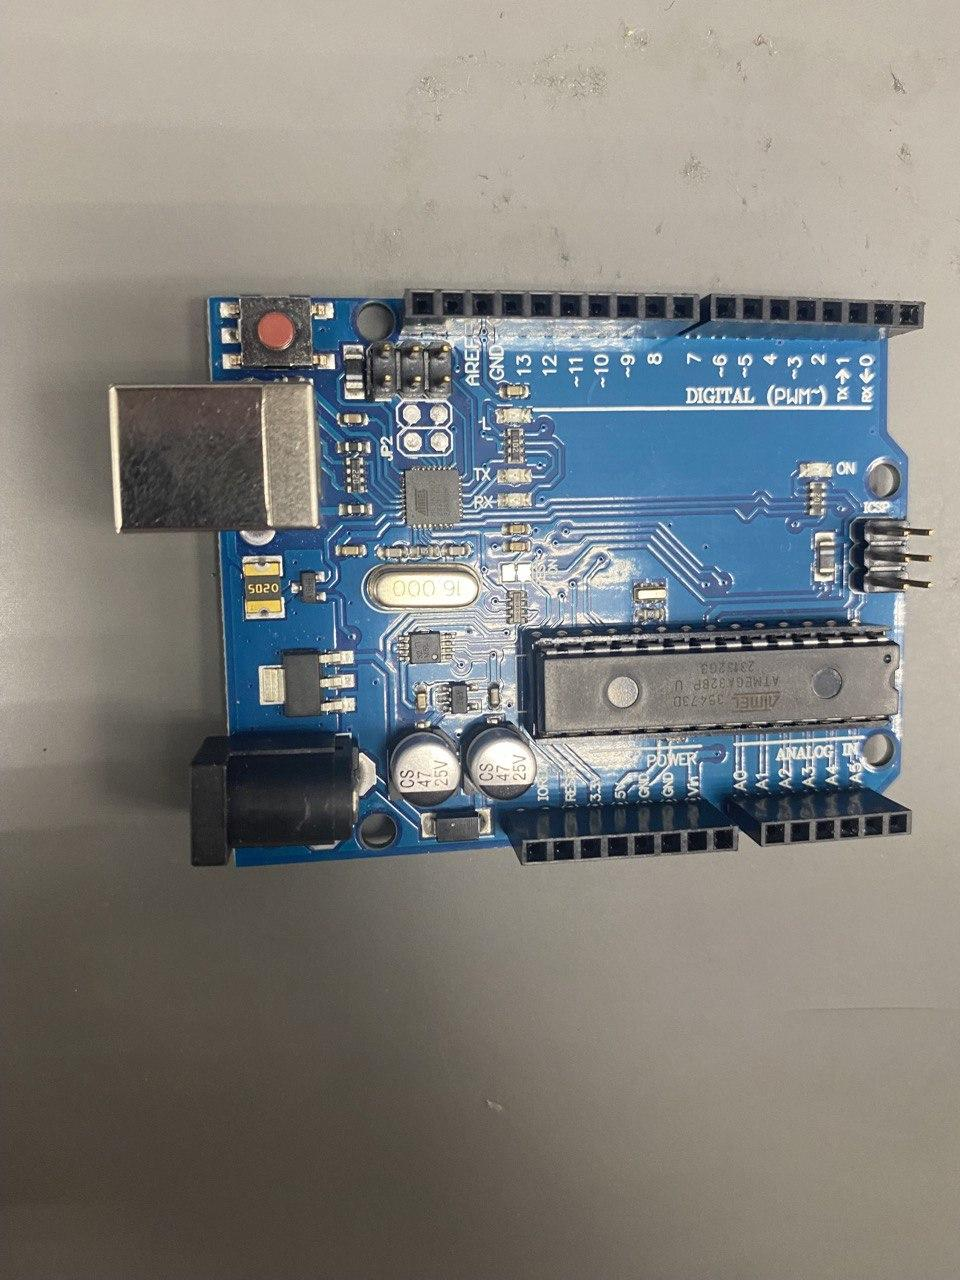ATmega328 chip: (527, 619, 900, 744)
Arduino board: (109, 290, 934, 868)
USB: (108, 382, 320, 534)
capacitor: (390, 732, 461, 806), (466, 727, 536, 801)
pins: (503, 799, 739, 866), (398, 290, 699, 339), (678, 294, 925, 341), (726, 788, 912, 846)
resistor: (507, 590, 528, 624), (346, 457, 365, 494), (506, 428, 524, 465), (808, 481, 826, 516)
